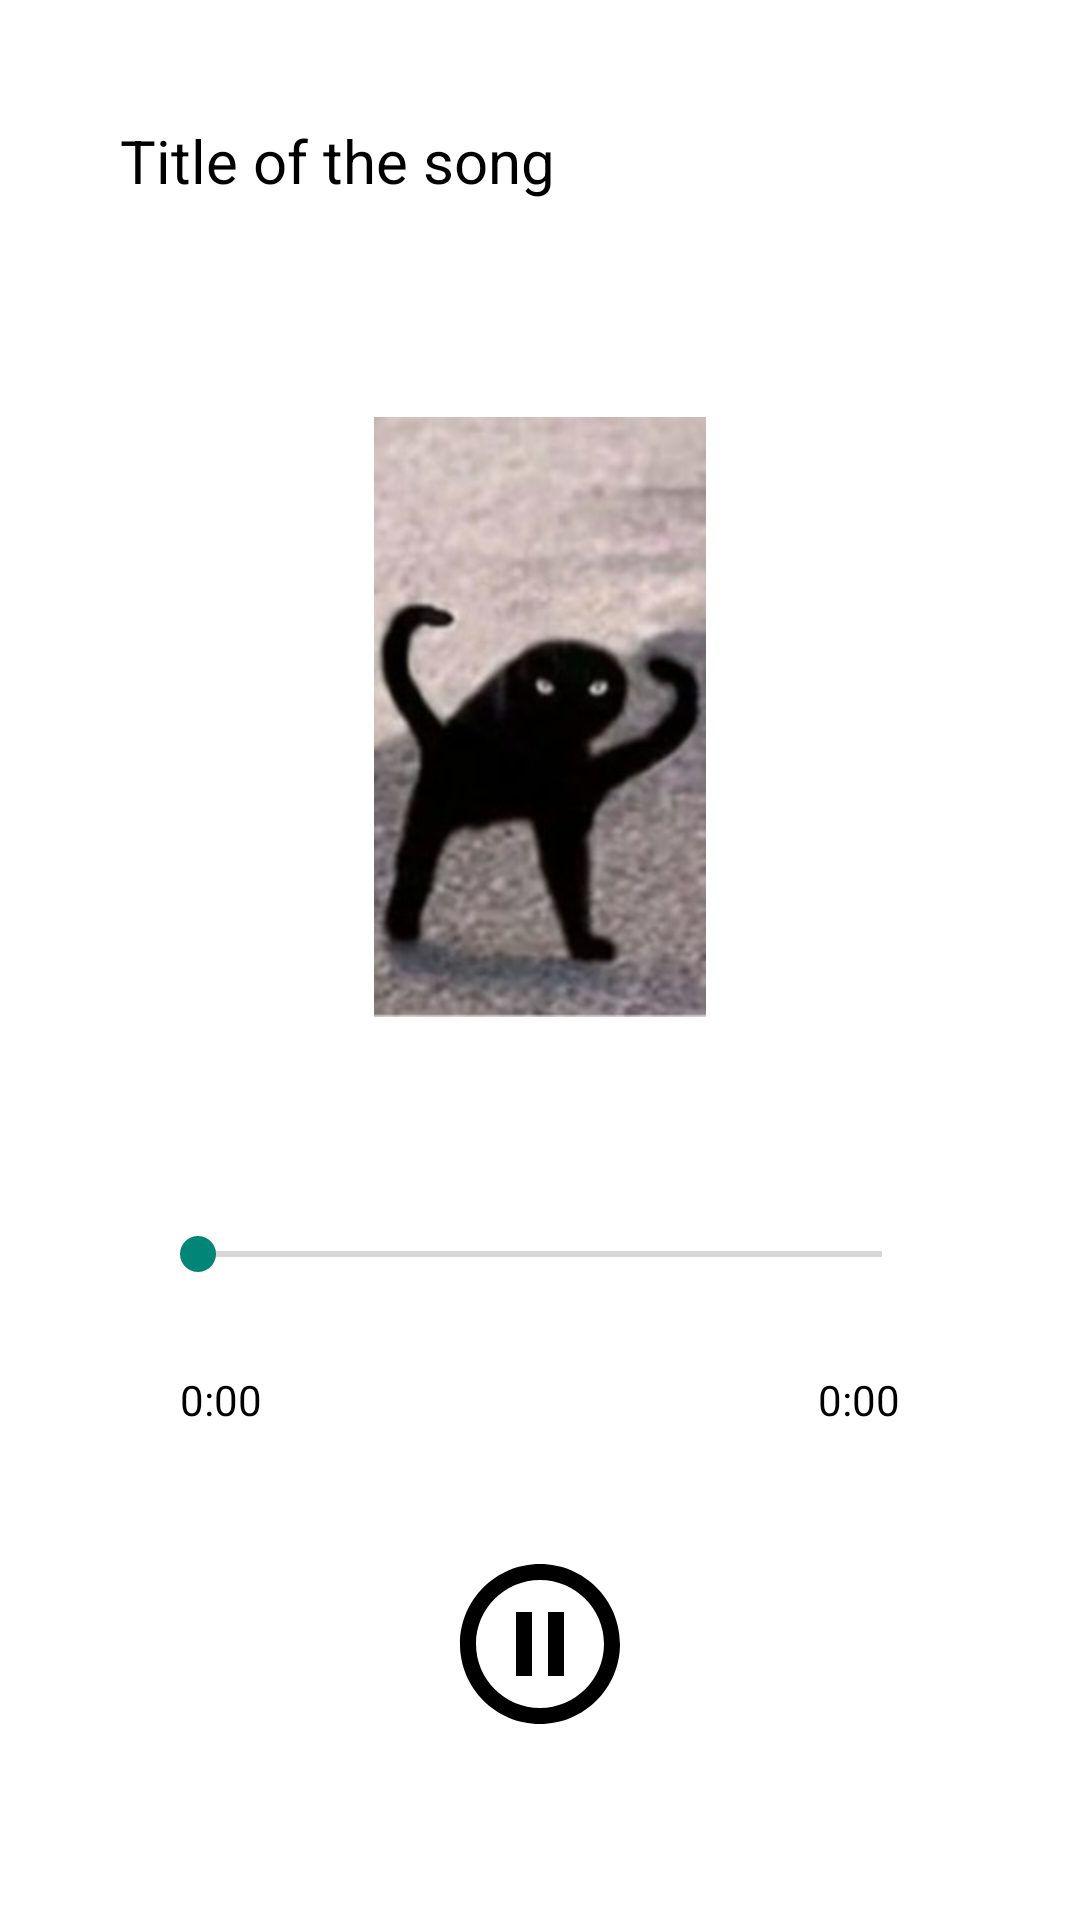

Named icons in this screenshot (1080×1920) and their centers, (x,y):
pause circle: (539,1644)
